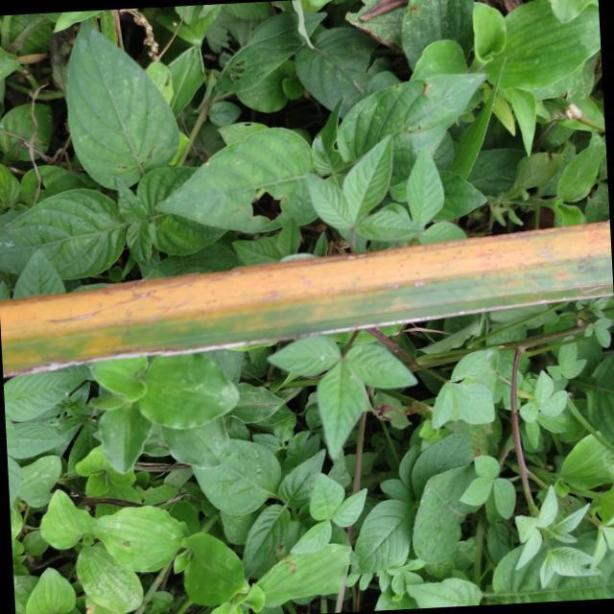Megnesium: (0, 222, 614, 376)
